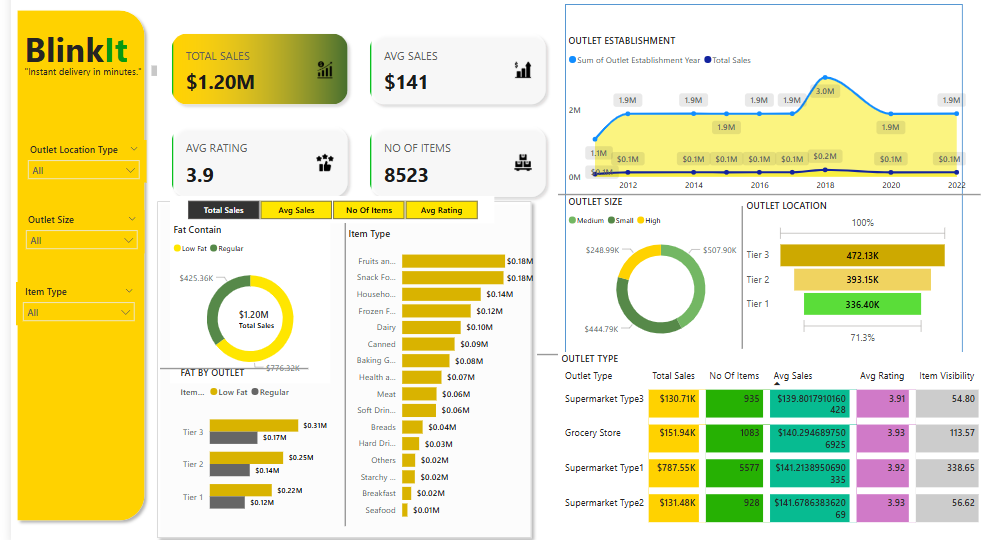

Layout of this report page (visuals, bound fields, positions):
{"tool":"powerbi","page":{"name":"Page 1","canvas":[1400,800],"ordinal":0},"visuals":[{"type":"shape","box":[0,25.7,200.3,749.6],"z":0},{"type":"textbox","box":[14.2,52,173.2,81.9],"z":1000},{"type":"textbox","box":[14.2,108.7,200,25.2],"z":2000},{"type":"cardVisual","fields":{"Data":["BlinkIT Grocery Data.Total Sales","BlinkIT Grocery Data.Avg Sales","BlinkIT Grocery Data.Avg Rating","BlinkIT Grocery Data.No Of Items"]},"box":[214.2,52,570.1,269.3],"z":3000},{"type":"shape","box":[200,299.2,554.3,500.8],"z":4000},{"type":"donutChart","title":"Fat Contain","fields":{"Y":["BlinkIT Grocery Data.Total Sales"],"Category":["BlinkIT Grocery Data.Item Fat Content"]},"box":[228.3,340.2,229.9,229.9],"z":5000},{"type":"slicer","fields":{"Values":["Matrics.Matrics"]},"box":[228.3,300.8,464.6,39.4],"z":6000},{"type":"cardVisual","fields":{"Data":["BlinkIT Grocery Data.Total Sales"]},"box":[310.2,434.6,94.5,85],"z":7000},{"type":"clusteredBarChart","title":"FAT BY OUTLET","fields":{"Y":["BlinkIT Grocery Data.Total Sales"],"Category":["BlinkIT Grocery Data.Outlet Location Type"],"Series":["BlinkIT Grocery Data.Item Fat Content"]},"box":[237.8,544.9,220.5,229.9],"z":8000},{"type":"shape","box":[214.2,532.3,212.6,33.1],"z":9000},{"type":"shape","box":[458.3,340.2,40.9,434.6],"z":10000},{"type":"barChart","title":"Item Type","fields":{"Y":["BlinkIT Grocery Data.Total Sales"],"Category":["BlinkIT Grocery Data.Item Type"]},"box":[478.7,344.9,275.6,429.9],"z":11000},{"type":"shape","box":[793.7,25.2,570.1,759.1],"z":12000},{"type":"lineChart","title":"OUTLET ESTABLISHMENT","fields":{"Y":["Sum(BlinkIT Grocery Data.Outlet Establishment Year)","BlinkIT Grocery Data.Total Sales"],"Category":["BlinkIT Grocery Data.Outlet Establishment Year"]},"box":[793.7,69.3,579.5,234.6],"z":13000},{"type":"shape","box":[784.3,281.9,606.3,33.1],"z":14000},{"type":"donutChart","title":"OUTLET SIZE","fields":{"Y":["BlinkIT Grocery Data.Total Sales"],"Category":["BlinkIT Grocery Data.Outlet Size"]},"box":[793.7,299.2,275,225],"z":15000},{"type":"shape","box":[1028.3,315,40.9,204.7],"z":16000},{"type":"funnel","title":"OUTLET LOCATION","fields":{"Y":["Sum(BlinkIT Grocery Data.Sales)"],"Category":["BlinkIT Grocery Data.Outlet Location Type"]},"box":[1048.8,305.5,299.2,214.2],"z":17000},{"type":"shape","box":[754.3,511.8,606.3,33.1],"z":18000},{"type":"pivotTable","title":"OUTLET TYPE","fields":{"Values":["BlinkIT Grocery Data.Total Sales","BlinkIT Grocery Data.No Of Items","BlinkIT Grocery Data.Avg Sales","BlinkIT Grocery Data.Avg Rating","Sum(BlinkIT Grocery Data.Item Visibility)"],"Rows":["BlinkIT Grocery Data.Outlet Type"]},"box":[784.3,524.4,615.7,275.6],"z":19000},{"type":"slicer","fields":{"Values":["BlinkIT Grocery Data.Outlet Location Type"]},"box":[14.2,220.5,179.5,61.4],"z":20000},{"type":"slicer","fields":{"Values":["BlinkIT Grocery Data.Outlet Size"]},"box":[11,321.5,180.1,62.5],"z":21000},{"type":"slicer","fields":{"Values":["BlinkIT Grocery Data.Item Type"]},"box":[7.3,424.4,180.1,62.5],"z":22000}]}

Visuals, with their boxes on the page's 1400x800 design canvas (x1, y1, x2, y2). These are canvas units, not pixel positions in the 984x540 screenshot, which may show the page scaled, cropped or inside an application window:
shape: rect(0, 26, 200, 775)
textbox: rect(14, 52, 187, 134)
textbox: rect(14, 109, 214, 134)
cardVisual - BlinkIT Grocery Data.Total Sales x BlinkIT Grocery Data.Avg Sales: rect(214, 52, 784, 321)
shape: rect(200, 299, 754, 800)
"Fat Contain" donutChart: rect(228, 340, 458, 570)
slicer - Matrics.Matrics: rect(228, 301, 693, 340)
cardVisual - BlinkIT Grocery Data.Total Sales: rect(310, 435, 405, 520)
"FAT BY OUTLET" clusteredBarChart: rect(238, 545, 458, 775)
shape: rect(214, 532, 427, 565)
shape: rect(458, 340, 499, 775)
"Item Type" barChart: rect(479, 345, 754, 775)
shape: rect(794, 25, 1364, 784)
"OUTLET ESTABLISHMENT" lineChart: rect(794, 69, 1373, 304)
shape: rect(784, 282, 1391, 315)
"OUTLET SIZE" donutChart: rect(794, 299, 1069, 524)
shape: rect(1028, 315, 1069, 520)
"OUTLET LOCATION" funnel: rect(1049, 306, 1348, 520)
shape: rect(754, 512, 1361, 545)
"OUTLET TYPE" pivotTable: rect(784, 524, 1400, 800)
slicer - BlinkIT Grocery Data.Outlet Location Type: rect(14, 220, 194, 282)
slicer - BlinkIT Grocery Data.Outlet Size: rect(11, 322, 191, 384)
slicer - BlinkIT Grocery Data.Item Type: rect(7, 424, 187, 487)
